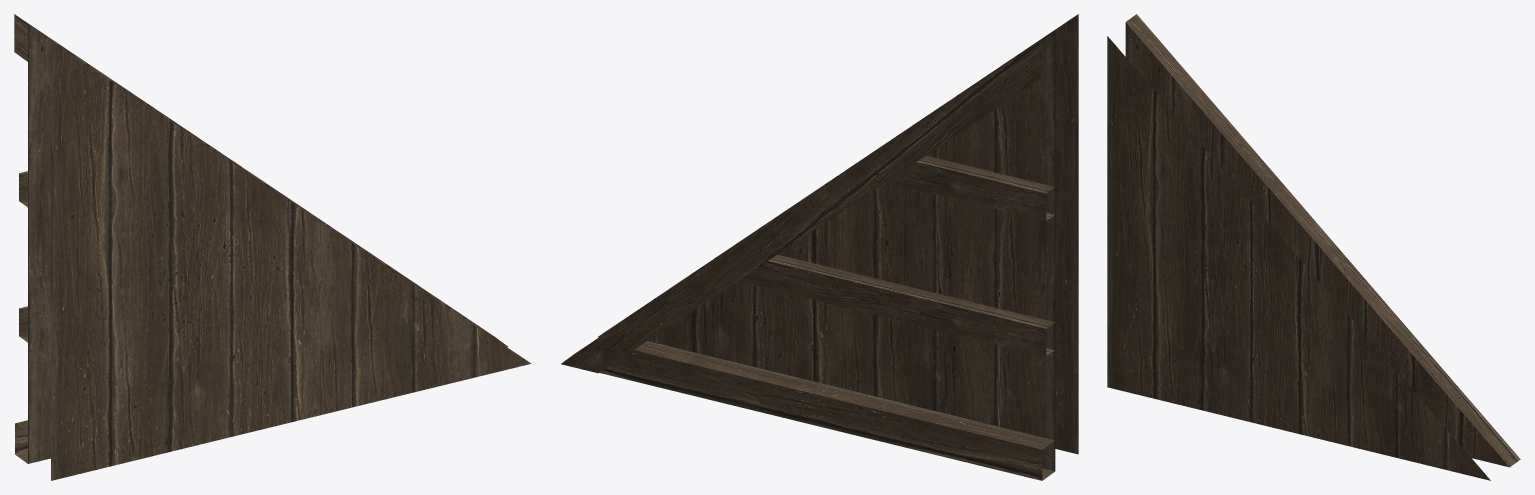
File: ARC1010316.fbx
The picture shows the model from 3 angles, left to right: view 1: azimuth 30°, elevation 25°; view 2: azimuth 150°, elevation 25°; view 3: azimuth 330°, elevation 25°; orthographic projection. The views are drawn at different scales.
Visible parts, largest first — view 1: smARC1010316; view 2: smARC1010316; view 3: smARC1010316.
Part boxes in pixels (left/top/right/bottom): smARC1010316: left=14, top=14, right=531, bottom=480; smARC1010316: left=561, top=14, right=1078, bottom=480; smARC1010316: left=1107, top=14, right=1520, bottom=480.
Size of the model in its own units: 268 by 235 by 35.62.
Materials: 1 (1 with a texture image).
